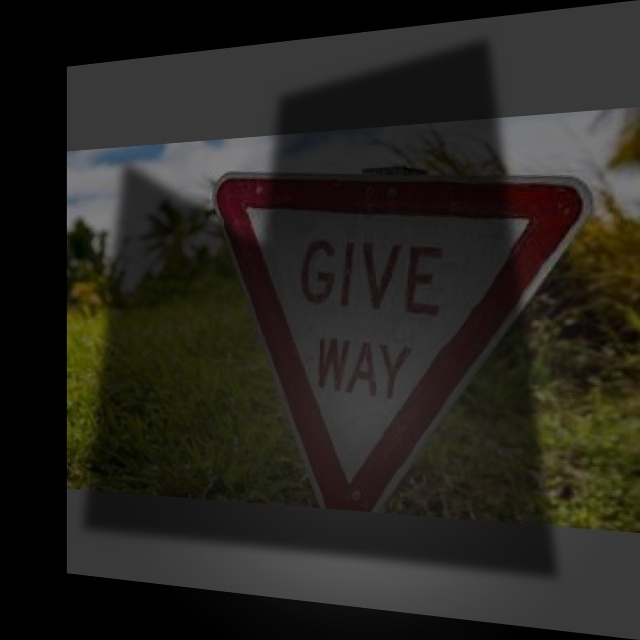Give_Way: (215, 157, 582, 510)
